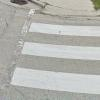Crosswalk: (22, 14, 99, 99)
